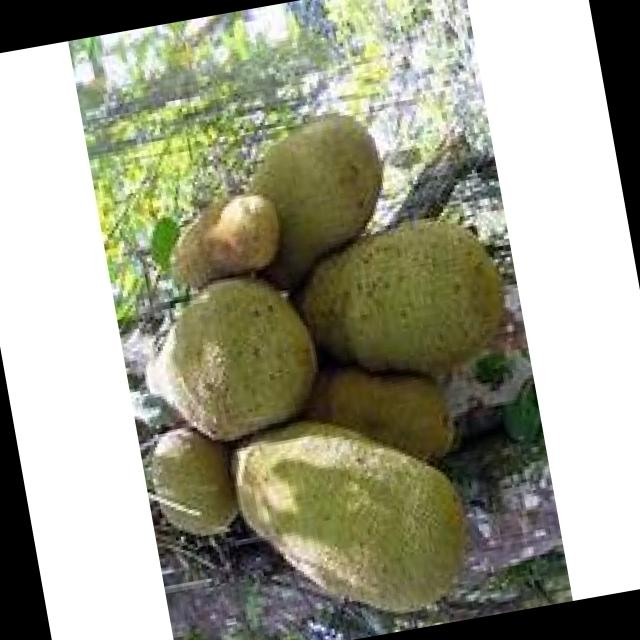Fruit: (189, 336, 508, 640), (125, 249, 348, 479)
